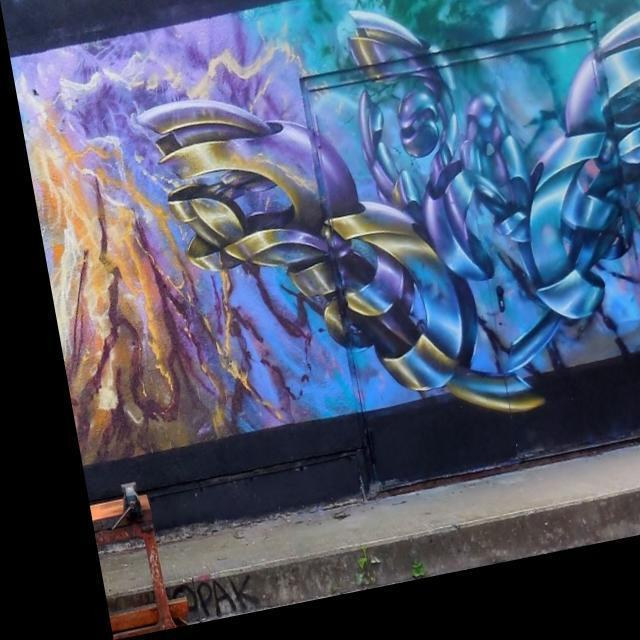-: (7, 0, 640, 497)
